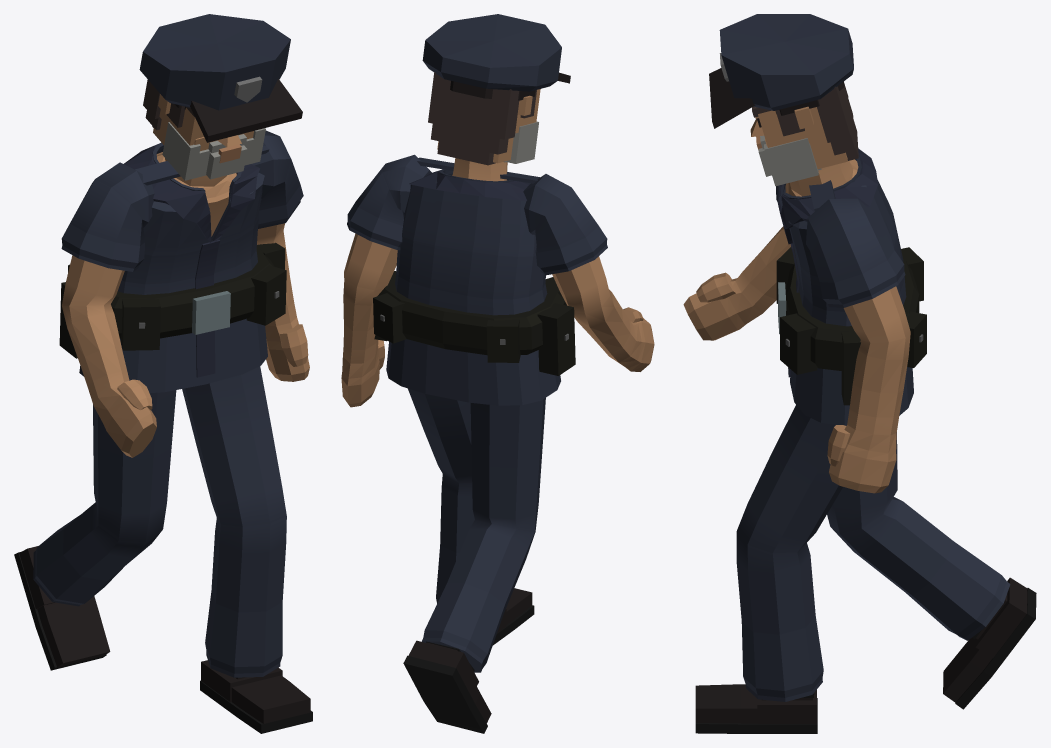
Rendered from police-officer-1cc379__walk1.glb.
The picture shows the model from 3 angles, left to right: view 1: azimuth 30°, elevation 25°; view 2: azimuth 150°, elevation 25°; view 3: azimuth 270°, elevation 25°; orthographic projection. The views are drawn at different scales.
Visible parts, largest first — view 1: police-officer-1cc379__walk1; view 2: police-officer-1cc379__walk1; view 3: police-officer-1cc379__walk1.
Part boxes in pixels (bbox=[...]): police-officer-1cc379__walk1: bbox=[14, 14, 312, 733]; police-officer-1cc379__walk1: bbox=[341, 14, 654, 733]; police-officer-1cc379__walk1: bbox=[683, 14, 1036, 733].
Size of the model in its own units: 0.7007 by 1.73 by 0.8116.
